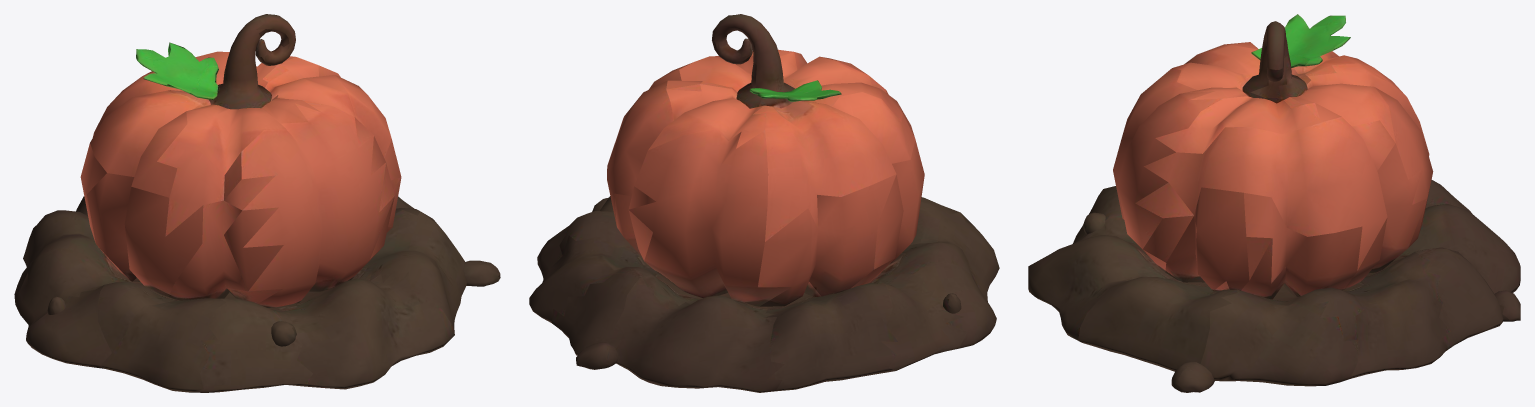
Rendered from pumpkin_decor.glb.
The picture shows the model from 3 angles, left to right: view 1: azimuth 30°, elevation 25°; view 2: azimuth 150°, elevation 25°; view 3: azimuth 270°, elevation 25°; orthographic projection.
Parts seen in each view (by area): view 1: mesh_node; view 2: mesh_node; view 3: mesh_node.
Part boxes in pixels (x1,y1,x2,y2): mesh_node: [14, 14, 500, 392]; mesh_node: [529, 14, 999, 392]; mesh_node: [1028, 14, 1520, 392].
Bounding box in the file's own units: 1 × 0.6172 × 1.
1 material, 1 textured.
